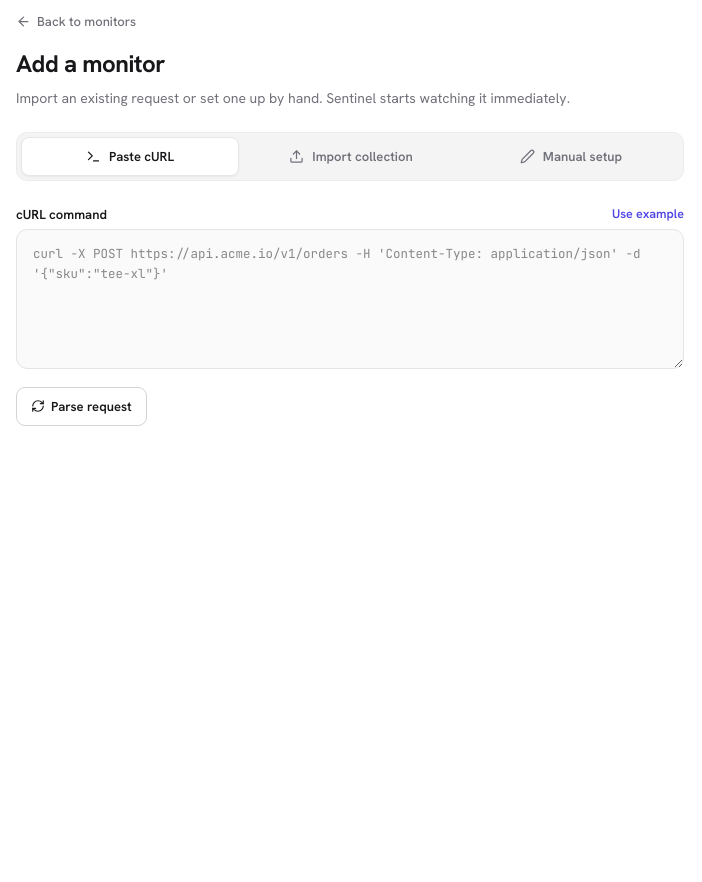
Test case: add monitor — manual setup › refuses to create without a URL and shows a toast
The image size is (702, 882).
What coordinates should you click on to do the following:
click the tab "Manual setup"
I would click on:
 (571, 156)
Its box is [463,136,679,176].
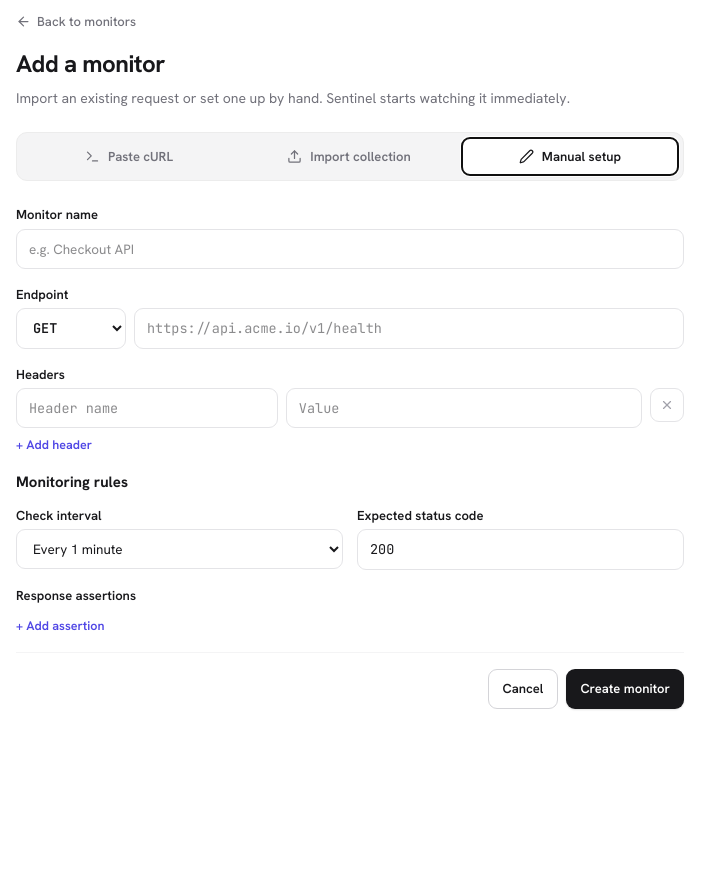
What coordinates should you click on to do the following:
click the button "Create monitor"
I would click on:
 (625, 689)
Its box is [566,669,684,708].
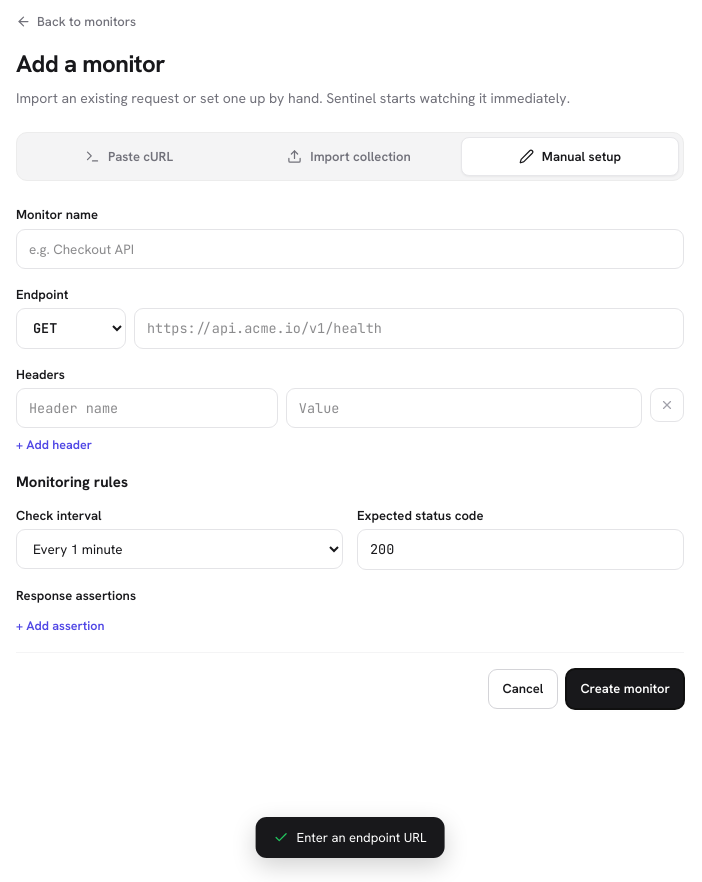
Now the text "Enter an endpoint URL" is shown, box [256,816,444,858]
